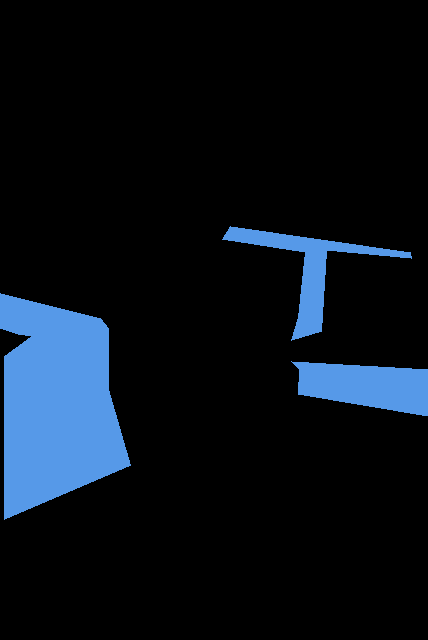Airplane: (0, 226, 428, 519)
